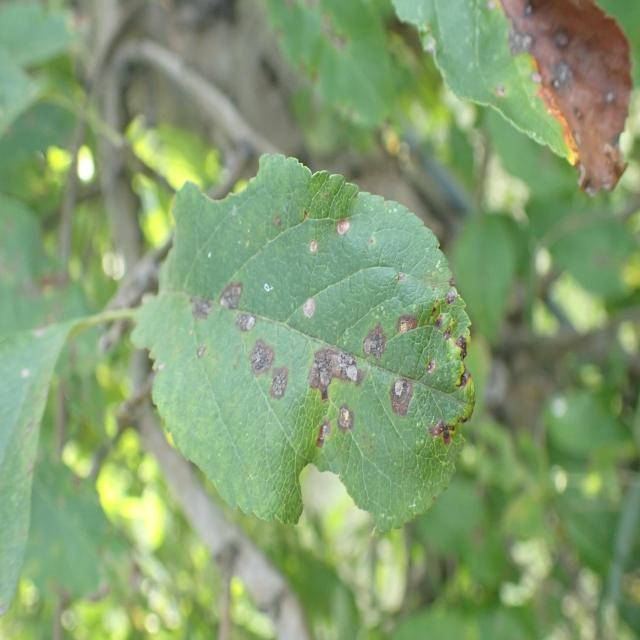frog-eye-leaf-spot: (129, 151, 477, 534)
